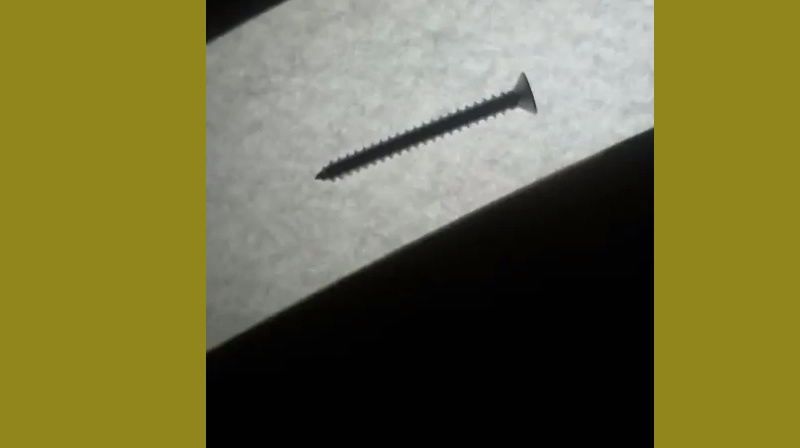S002: (312, 66, 543, 183)
